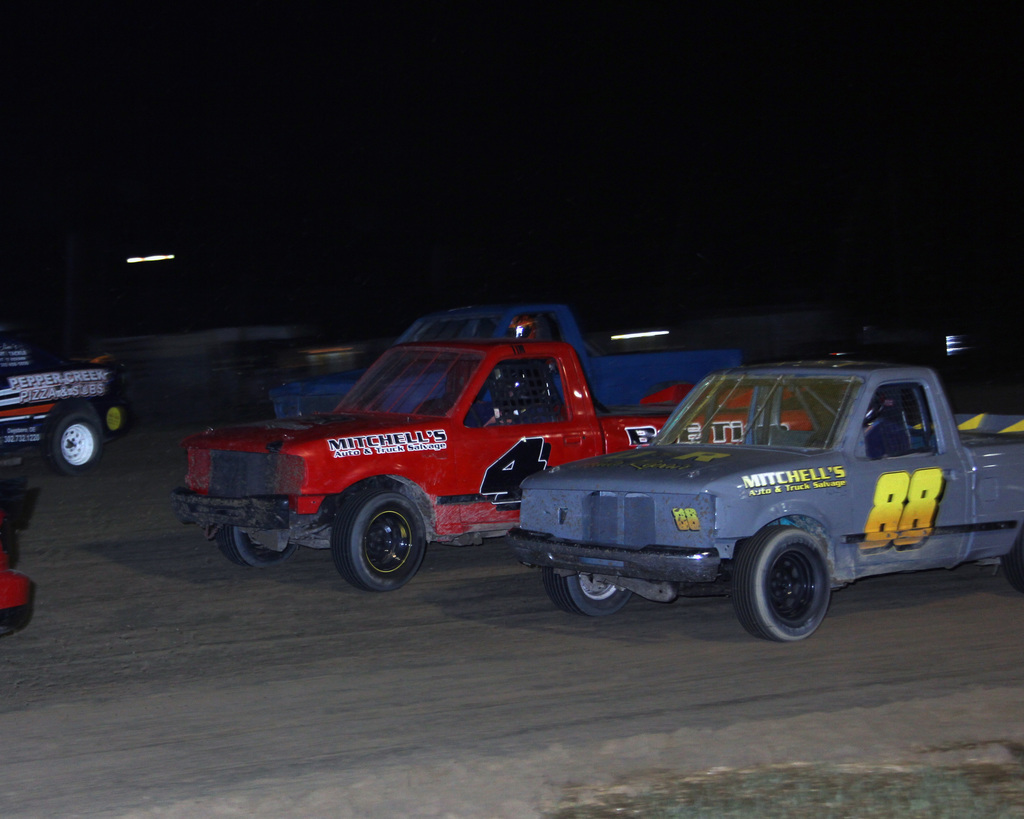Truck: (169, 338, 807, 592), (506, 356, 1022, 642), (268, 308, 743, 415)
